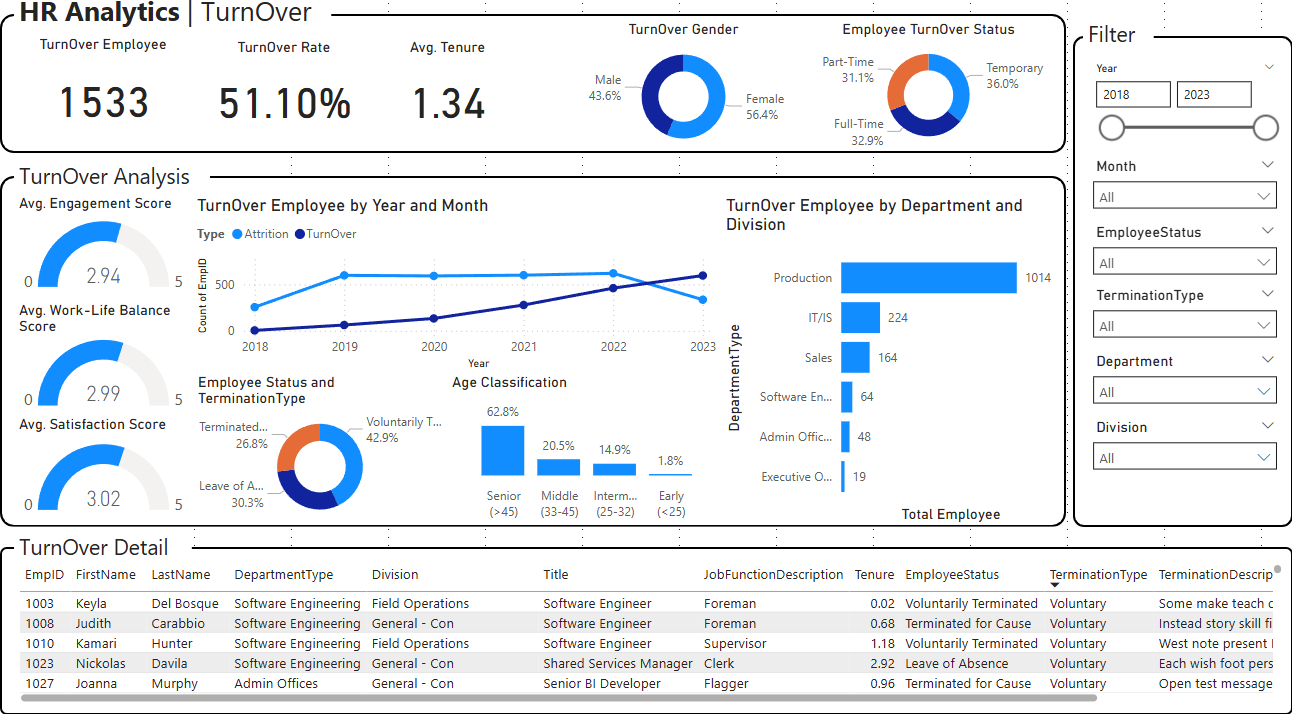

Layout of this report page (visuals, bound fields, positions):
{"tool":"powerbi","page":{"name":"Turnover","canvas":[1280,720],"ordinal":3},"visuals":[{"type":"shape","box":[0,187.1,1055,347.4],"z":0},{"type":"shape","box":[0,554.2,1279.7,166.3],"z":1000},{"type":"shape","box":[0,26.7,1055,137.6],"z":2000},{"type":"card","title":"TurnOver Employee","fields":{"Values":["attrition_data.EmpID"]},"box":[13.9,48.5,176.2,104.9],"z":3000},{"type":"columnChart","title":"Age Classification","fields":{"Category":["attrition_data.AgeClassification"],"Y":["attrition_data.EmpID"]},"box":[442.4,383,271.2,151.4],"z":4000},{"type":"card","title":"TurnOver Rate","fields":{"Values":["attrition_data.TurnOver Rate"]},"box":[191,51.5,180.1,101.9],"z":5000},{"type":"donutChart","title":"Employee Status and TerminationType","fields":{"Category":["attrition_data.EmployeeStatus","attrition_data.TerminationType"],"Y":["attrition_data.EmpID"]},"box":[191,383,251.4,151.4],"z":6000},{"type":"donutChart","title":"TurnOver Gender","fields":{"Category":["attrition_data.Gender"],"Y":["attrition_data.EmpID"]},"box":[562.1,33.6,228.6,133.6],"z":7000},{"type":"tableEx","fields":{"Values":["attrition_data.EmpID","attrition_data.FirstName","attrition_data.LastName","attrition_data.DepartmentType","attrition_data.Division","attrition_data.Title","attrition_data.JobFunctionDescription","attrition_data.Tenure","attrition_data.EmployeeStatus","attrition_data.TerminationType","attrition_data.TerminationDescription"]},"box":[13.9,566.1,1259.9,147.5],"z":8000},{"type":"clusteredBarChart","title":"TurnOver Employee by Department and Division","fields":{"Category":["attrition_data.DepartmentType","attrition_data.Division"],"Y":["attrition_data.EmpID"]},"box":[713.6,205.9,341.4,328.6],"z":9000},{"type":"shape","box":[1061.9,48.5,217.7,485.9],"z":10000},{"type":"textbox","box":[1071.8,26.7,70.3,42.6],"z":11000},{"type":"textbox","box":[14,0,314,51],"z":12000},{"type":"donutChart","title":"Employee TurnOver Status","fields":{"Y":["attrition_data.EmpID"],"Category":["attrition_data.EmployeeClassificationType"]},"box":[790.8,33.6,256.3,130.6],"z":13000},{"type":"card","title":"Avg. Tenure","fields":{"Values":["attrition_data.Tenure"]},"box":[371.1,51.5,143.5,101.9],"z":14000},{"type":"lineChart","title":"TurnOver Employee by Year and Month","fields":{"Category":["attrition_data.Date.Variation.Date Hierarchy.Year","attrition_data.Date.Variation.Date Hierarchy.Month"],"Y":["attrition_data.EmpID"],"Series":["attrition_data.Type"]},"box":[190,205.9,523.5,177.2],"z":15000},{"type":"gauge","title":"Avg. Engagement Score","fields":{"Y":["employee_engagement_survey_data.Engagement Score"],"MaxValue":["CountNonNull(employee_engagement_survey_data.Engagement Score)1"]},"box":[13.9,205.9,177.2,105.9],"z":16000},{"type":"gauge","title":"Avg. Satisfaction Score","fields":{"Y":["employee_engagement_survey_data.Satisfaction Score"],"MaxValue":["employee_engagement_survey_data.Satisfaction Score"]},"box":[13.9,424.6,177.2,109.9],"z":17000},{"type":"gauge","title":"Avg. Work-Life Balance Score","fields":{"Y":["employee_engagement_survey_data.Work-Life Balance Score"],"MaxValue":["employee_engagement_survey_data.Work-Life Balance Score"]},"box":[13.9,311.8,177.2,112.8],"z":18000},{"type":"textbox","box":[13.9,534.4,176.2,38.6],"z":19000},{"type":"textbox","box":[13.9,167.3,194,38.6],"z":20000},{"type":"slicer","fields":{"Values":["attrition_data.Date.Variation.Date Hierarchy.Year"]},"box":[1071.8,69.3,201.9,95],"z":21000},{"type":"slicer","fields":{"Values":["attrition_data.Date.Variation.Date Hierarchy.Month"]},"box":[1071.8,164.3,201.9,65.3],"z":22000},{"type":"slicer","fields":{"Values":["attrition_data.DepartmentType"]},"box":[1071.8,357.3,201.9,65.3],"z":23000},{"type":"slicer","fields":{"Values":["attrition_data.EmployeeStatus"]},"box":[1071.8,229.6,201.9,65.3],"z":24000},{"type":"slicer","fields":{"Values":["attrition_data.TerminationType"]},"box":[1071.8,292,201.9,65.3],"z":25000},{"type":"slicer","fields":{"Values":["attrition_data.Division"]},"box":[1071.8,422.6,201.9,65.3],"z":26000}]}

Visuals, with their boxes in screenshot pixels (x1, y1, x2, y2), scaled from the page's 1280x720 canvas onto the 1292x714 screenshot:
shape: l=0, t=186, r=1065, b=530
shape: l=0, t=550, r=1291, b=713
shape: l=0, t=26, r=1065, b=163
"TurnOver Employee" card: l=14, t=48, r=192, b=152
"Age Classification" columnChart: l=447, t=380, r=720, b=530
"TurnOver Rate" card: l=193, t=51, r=375, b=152
"Employee Status and TerminationType" donutChart: l=193, t=380, r=447, b=530
"TurnOver Gender" donutChart: l=567, t=33, r=798, b=166
tableEx - attrition_data.EmpID x attrition_data.FirstName: l=14, t=561, r=1286, b=708
"TurnOver Employee by Department and Division" clusteredBarChart: l=720, t=204, r=1065, b=530
shape: l=1072, t=48, r=1291, b=530
textbox: l=1082, t=26, r=1153, b=69
textbox: l=14, t=0, r=331, b=51
"Employee TurnOver Status" donutChart: l=798, t=33, r=1057, b=163
"Avg. Tenure" card: l=375, t=51, r=519, b=152
"TurnOver Employee by Year and Month" lineChart: l=192, t=204, r=720, b=380
"Avg. Engagement Score" gauge: l=14, t=204, r=193, b=309
"Avg. Satisfaction Score" gauge: l=14, t=421, r=193, b=530
"Avg. Work-Life Balance Score" gauge: l=14, t=309, r=193, b=421
textbox: l=14, t=530, r=192, b=568
textbox: l=14, t=166, r=210, b=204
slicer - attrition_data.Date.Variation.Date Hierarchy.Year: l=1082, t=69, r=1286, b=163
slicer - attrition_data.Date.Variation.Date Hierarchy.Month: l=1082, t=163, r=1286, b=228
slicer - attrition_data.DepartmentType: l=1082, t=354, r=1286, b=419
slicer - attrition_data.EmployeeStatus: l=1082, t=228, r=1286, b=292
slicer - attrition_data.TerminationType: l=1082, t=290, r=1286, b=354
slicer - attrition_data.Division: l=1082, t=419, r=1286, b=484
